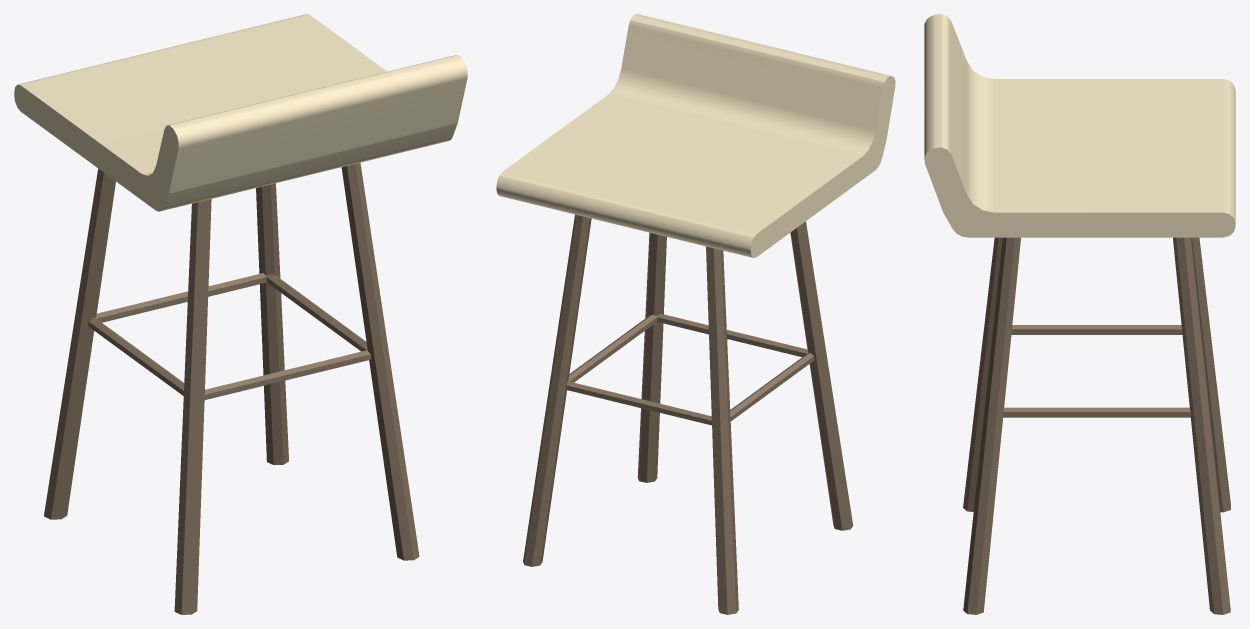
File: HighChair 1.fbx
The picture shows the model from 3 angles, left to right: view 1: azimuth 30°, elevation 25°; view 2: azimuth 150°, elevation 25°; view 3: azimuth 270°, elevation 25°; orthographic projection. The views are drawn at different scales.
Parts seen in each view (by area): view 1: polySurface937; view 2: polySurface937; view 3: polySurface937.
Boxes of the visible parts, x1=… form: polySurface937: x1=14, y1=14, x2=467, y2=614; polySurface937: x1=496, y1=14, x2=895, y2=614; polySurface937: x1=924, y1=14, x2=1235, y2=614.
Bounding box in the file's own units: 54.39 × 90.9 × 53.62.
